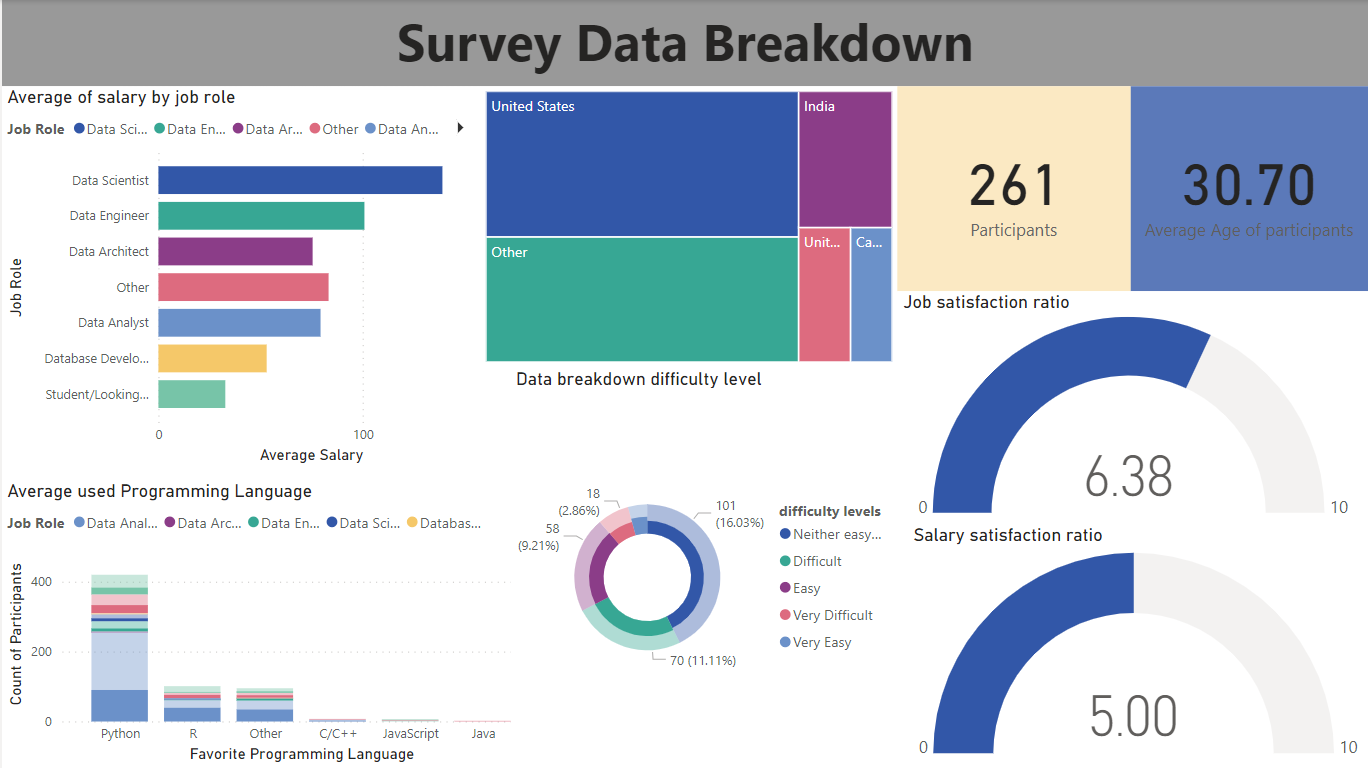

The page's visual inventory and layout, read from the dashboard file:
{"tool":"powerbi","page":{"name":"Page 1","canvas":[1280,720],"ordinal":0},"visuals":[{"type":"textbox","box":[0,0,1280.6,80.5],"z":0},{"type":"card","fields":{"Values":["CountNonNull(Data Professional Survey.Unique ID)"]},"box":[839.1,80.9,219.4,191.9],"z":1000},{"type":"card","fields":{"Values":["Avg(Data Professional Survey.Q10 - Current Age)"]},"box":[1058.4,80.9,222.1,191.9],"z":2000},{"type":"barChart","title":"Average of salary by job role","fields":{"Category":["Data Professional Survey.Q1 - Which Title Best Fits your Current Role?.1"],"Y":["Avg(Data Professional Survey.Avarage Salary)"],"Series":["Data Professional Survey.Q1 - Which Title Best Fits your Current Role?.1"]},"box":[0,81.1,448.9,358.3],"z":3000},{"type":"columnChart","title":"Average used Programming Language","fields":{"Category":["Data Professional Survey.Q5 - Favorite Programming Language.1"],"Y":["CountNonNull(Data Professional Survey.Unique ID)"],"Series":["Data Professional Survey.Q1 - Which Title Best Fits your Current Role?.1"]},"box":[0,450,511,270],"z":4000},{"type":"treemap","fields":{"Group":["Data Professional Survey.Q11 - Which Country do you live in?.1"],"Values":["CountNonNull(Data Professional Survey.Q11 - Which Country do you live in?.1)"]},"box":[448.9,81.1,390.8,263.7],"z":5000},{"type":"gauge","title":"Job satisfaction ratio","fields":{"Y":["Avg(Data Professional Survey.Q6 - How Happy are you in your Current Position with the following? (Work/Life Balance))"],"MinValue":["Min(Data Professional Survey.Q6 - How Happy are you in your Current Position with the following? (Work/Life Balance))1"],"MaxValue":["Max(Data Professional Survey.Q6 - How Happy are you in your Current Position with the following? (Work/Life Balance))"]},"box":[839.7,273.1,440.8,217.7],"z":5001},{"type":"gauge","title":"Salary satisfaction ratio","fields":{"Y":["Avg(Data Professional Survey.Q6 - How Happy are you in your Current Position with the following? (Salary))"],"MinValue":["Min(Data Professional Survey.Q6 - How Happy are you in your Current Position with the following? (Salary))"],"MaxValue":["Max(Data Professional Survey.Q6 - How Happy are you in your Current Position with the following? (Salary))"]},"box":[849.2,490.9,431.4,228.5],"z":5002},{"type":"donutChart","title":"Data breakdown difficulty level","fields":{"Category":["Data Professional Survey.Q7 - How difficult was it for you to break into Data?"],"Y":["CountNonNull(Data Professional Survey.Q7 - How difficult was it for you to break into Data?)"]},"box":[477.3,344.8,362.4,374.6],"z":5003}]}

Visuals, with their boxes in screenshot pixels (x1, y1, x2, y2), scaled from the page's 1280x720 canvas onto the 1368x768 screenshot:
textbox: {"x1": 0, "y1": 0, "x2": 1367, "y2": 86}
card - CountNonNull(Data Professional Survey.Unique ID): {"x1": 897, "y1": 86, "x2": 1131, "y2": 291}
card - Avg(Data Professional Survey.Q10 - Current Age): {"x1": 1131, "y1": 86, "x2": 1367, "y2": 291}
"Average of salary by job role" barChart: {"x1": 0, "y1": 87, "x2": 480, "y2": 469}
"Average used Programming Language" columnChart: {"x1": 0, "y1": 480, "x2": 546, "y2": 767}
treemap - Data Professional Survey.Q11 - Which Country do you live in?.1 x CountNonNull(Data Professional Survey.Q11 - Which Country do you live in?.1): {"x1": 480, "y1": 87, "x2": 897, "y2": 368}
"Job satisfaction ratio" gauge: {"x1": 897, "y1": 291, "x2": 1367, "y2": 524}
"Salary satisfaction ratio" gauge: {"x1": 908, "y1": 524, "x2": 1367, "y2": 767}
"Data breakdown difficulty level" donutChart: {"x1": 510, "y1": 368, "x2": 897, "y2": 767}
